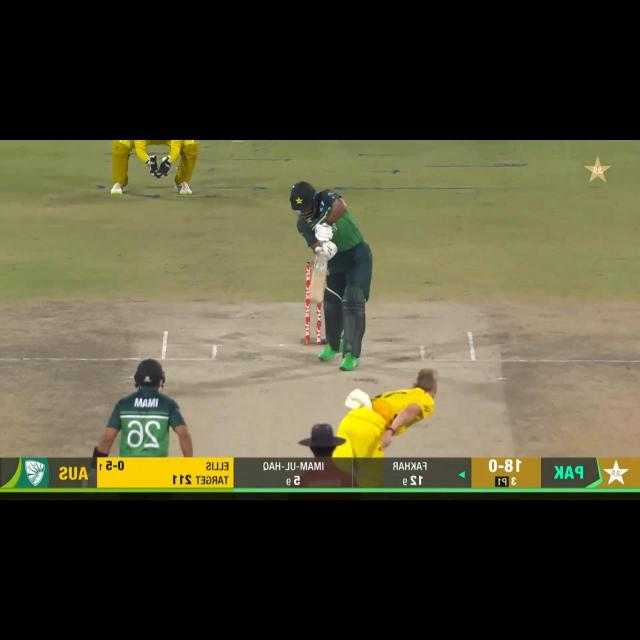bat: (308, 248, 331, 304)
toe: (306, 291, 324, 305)
